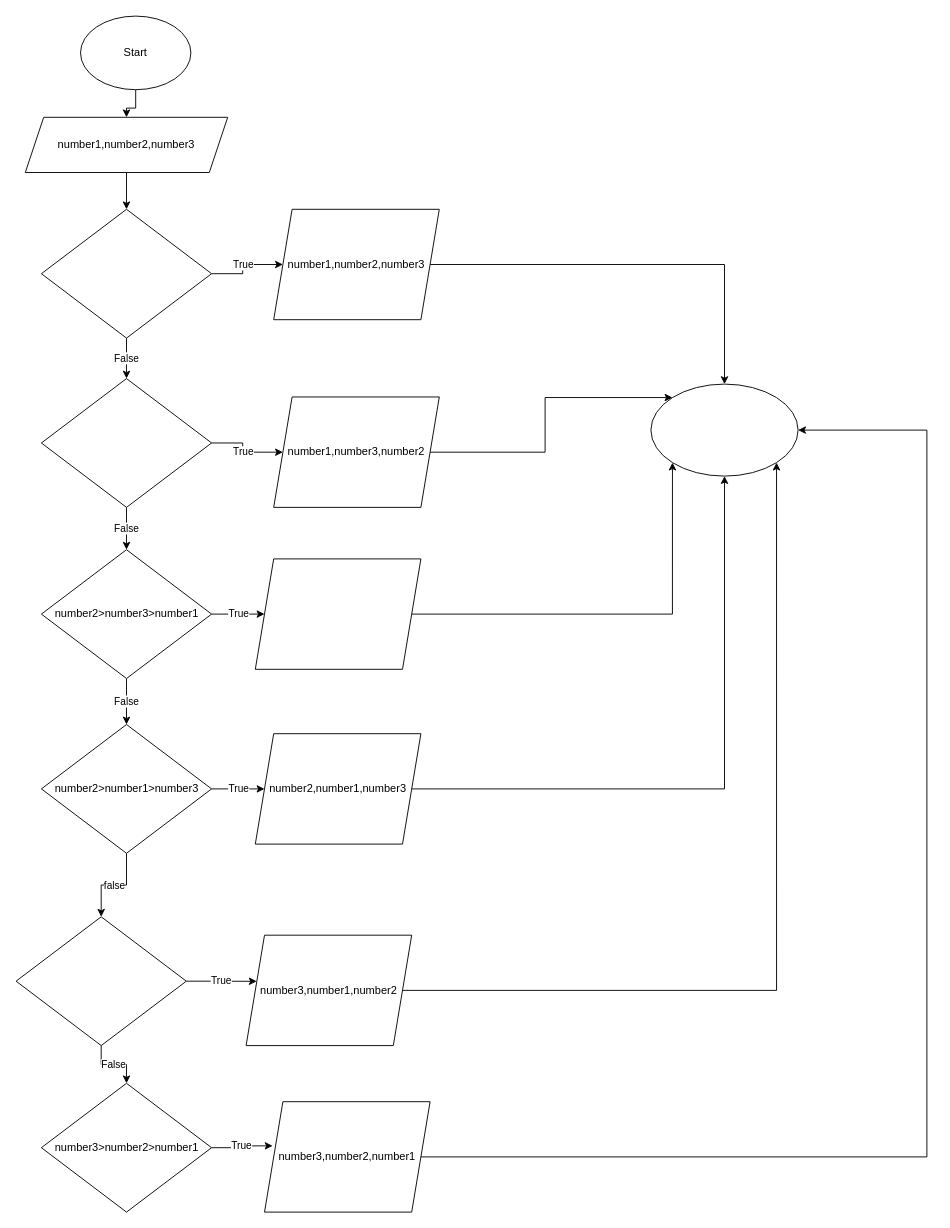
Some shapes in this 950 by 1228 pixel diagram are drawn without their labels. The shapes that lost their labels are listed below. From the top down, each one's centre as x and y in pixels, then its label:
At pixel 126 273: "number1>number2>number3".
At pixel 126 442: "number1>number3>number2".
At pixel 724 429: "End".
At pixel 337 613: "number2,number3,number1".
At pixel 100 981: "number3>number1>number2".
